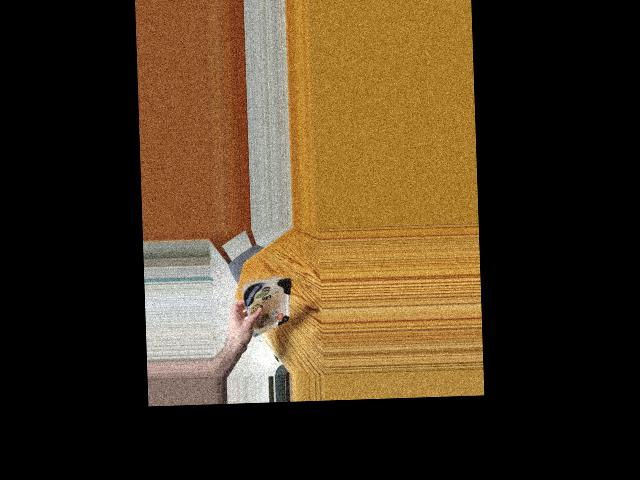cheese: (240, 272, 289, 326)
